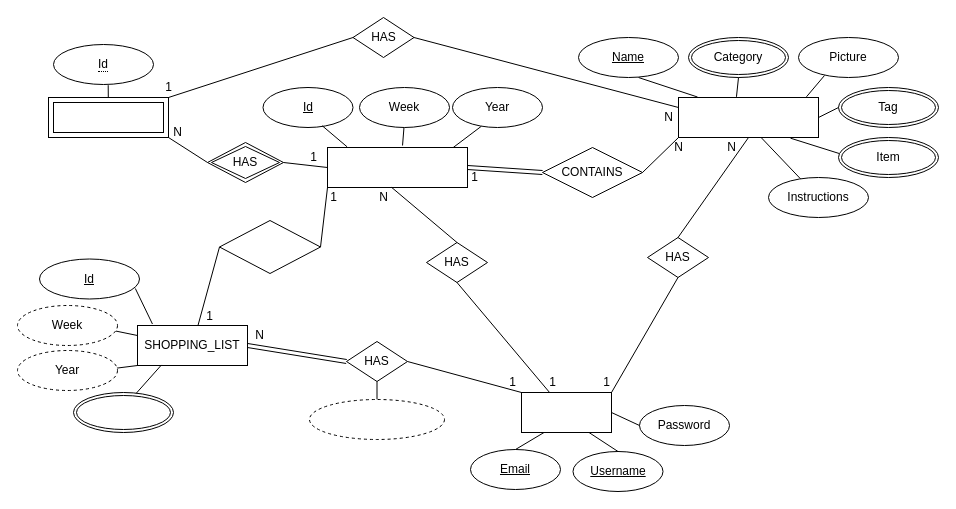
The diagram is 956 pixels wide and 509 high, and some of its shapes have lost their labels. Here are the shapes that lost their labels. From the top down, the box of each, then its label:
(48, 96, 168, 138): CALENDAR_DAY
(678, 96, 818, 138): RECIPE
(326, 146, 468, 188): WEEKLY_CALENDAR
(218, 220, 320, 274): GENERATES
(72, 392, 174, 432): Shopping_item
(308, 398, 444, 440): Shopping_list_history
(520, 392, 612, 432): PROFILE
